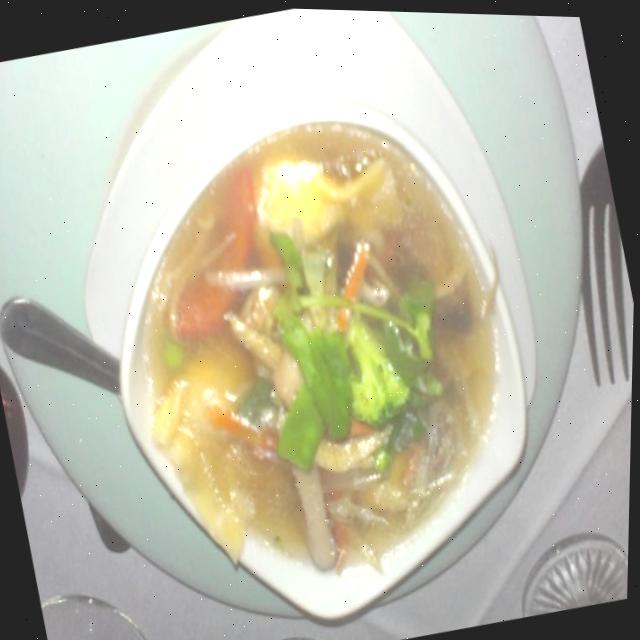汤锅炖物: (16, 1, 591, 640)
